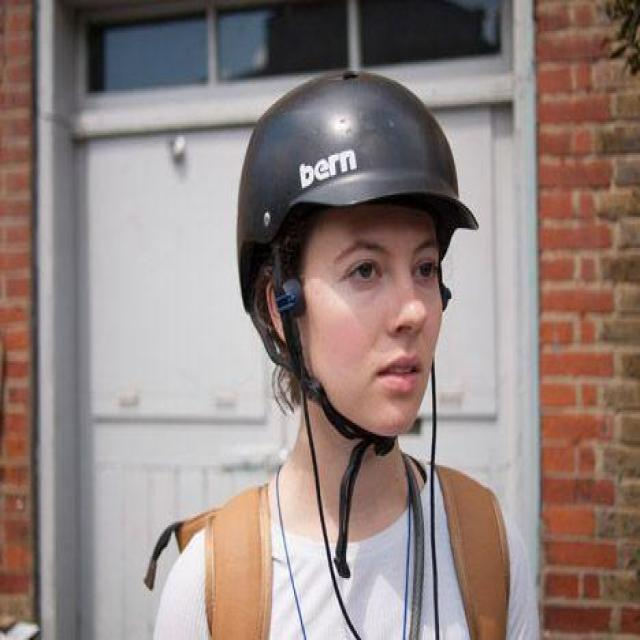Helmet: (236, 70, 479, 436)
